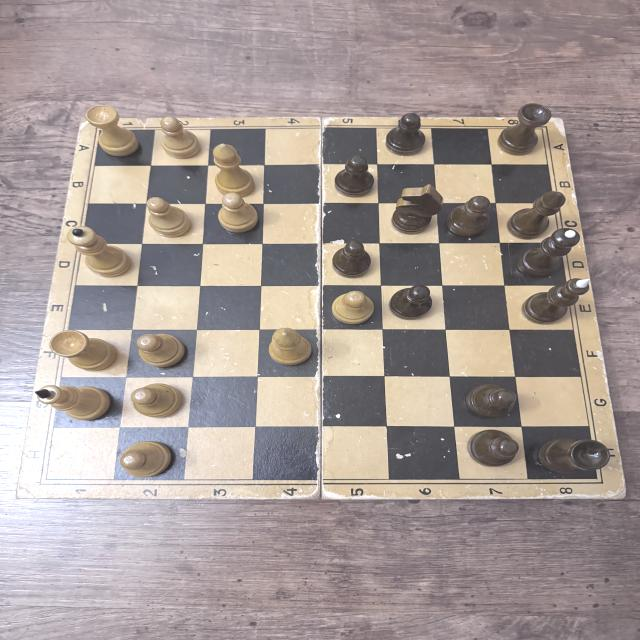black-bishop: (507, 189, 567, 240)
black-king: (522, 277, 591, 324)
black-knight: (392, 185, 442, 235)
black-pawn: (465, 429, 520, 468), (466, 382, 517, 420), (448, 196, 494, 236), (384, 112, 426, 155), (334, 157, 376, 197), (388, 284, 434, 319), (332, 241, 373, 278)
black-queen: (516, 228, 580, 277)
black-rook: (528, 434, 612, 477), (494, 102, 553, 156)
white-bishop: (209, 142, 257, 197), (269, 327, 313, 364)
white-king: (35, 384, 115, 421)
white-pawn: (119, 441, 175, 477), (144, 196, 191, 238), (158, 117, 201, 161), (134, 333, 187, 368), (131, 384, 183, 418), (218, 192, 260, 233), (330, 291, 377, 325)
white-queen: (66, 226, 136, 278)
white-rook: (84, 102, 142, 160), (49, 330, 121, 372)
